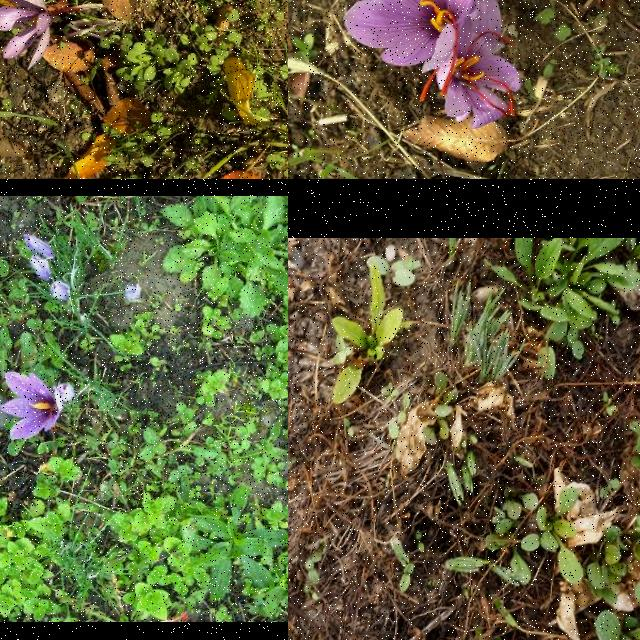flower: (0, 371, 62, 441), (0, 0, 59, 69), (24, 235, 56, 258), (28, 256, 54, 280)
overlap: (342, 0, 519, 129)
